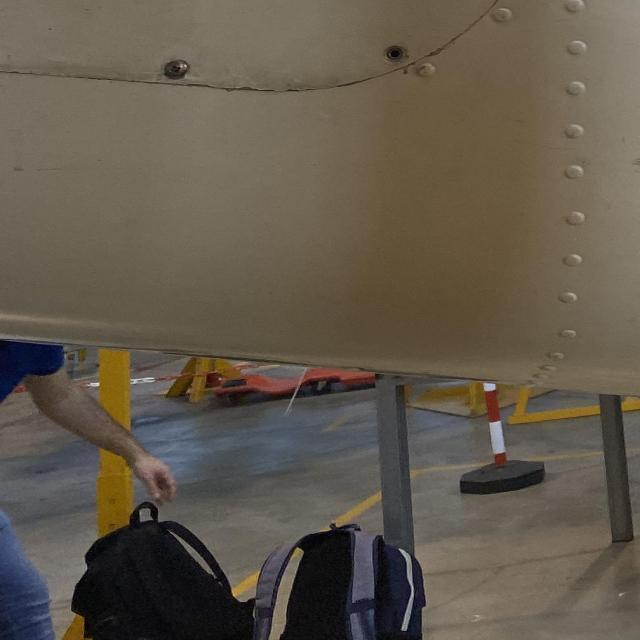Missing-head: (383, 45, 407, 64)
